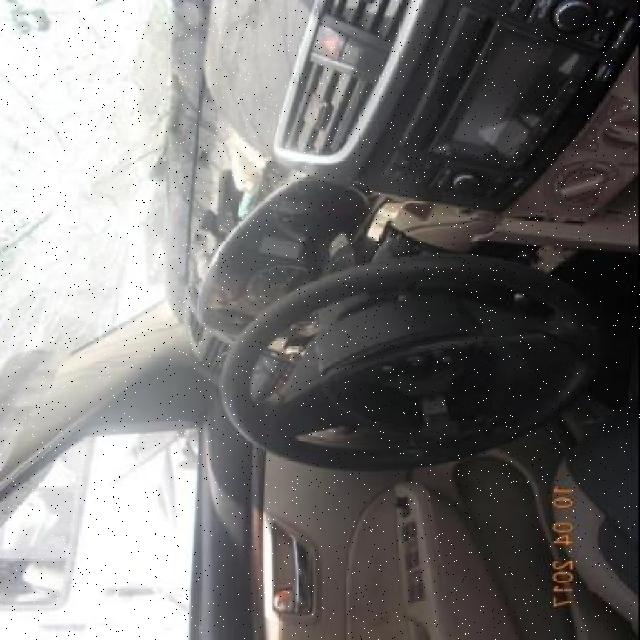damage: (2, 1, 147, 321)
